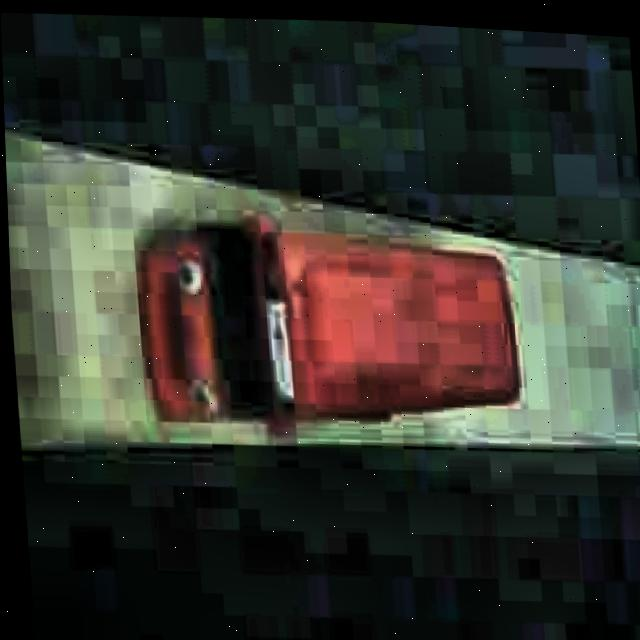bus: (126, 197, 529, 459)
